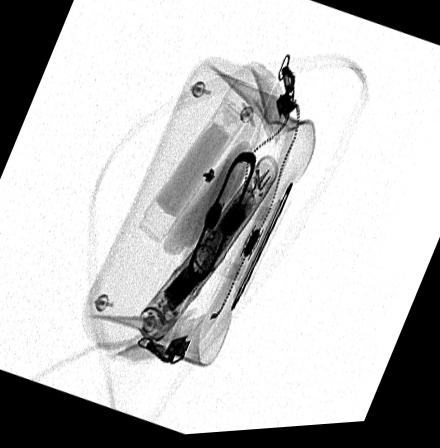Baton: (135, 160, 278, 347)
